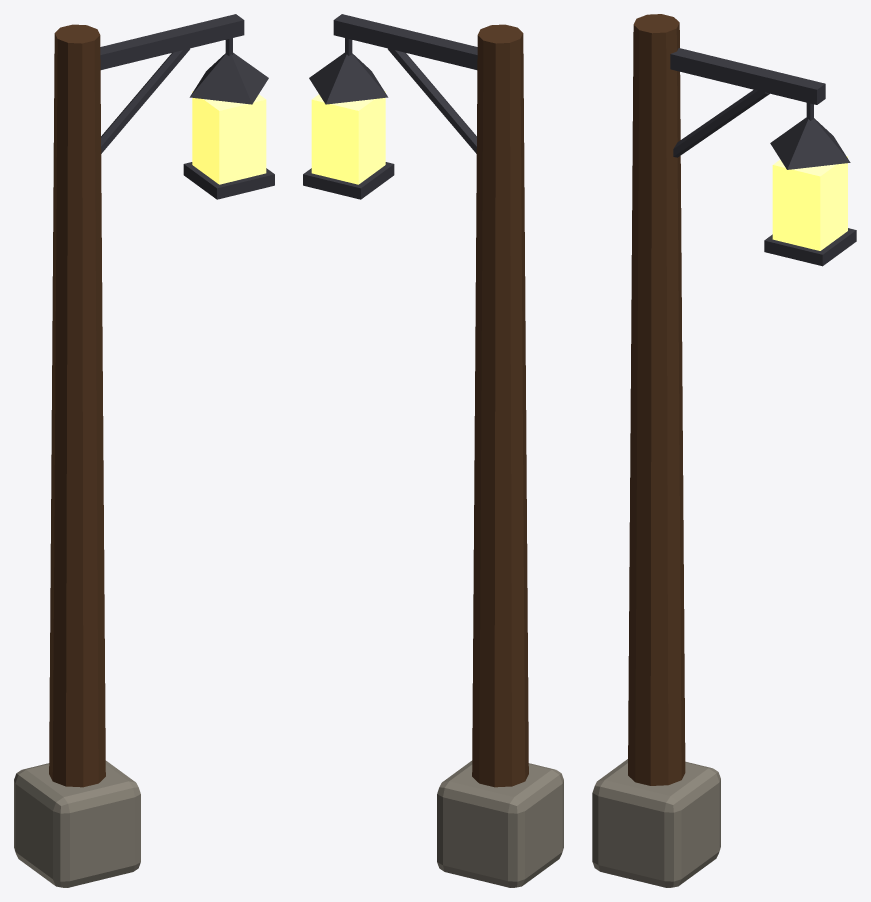
The model's file is prop_lamppost.glb.
3 views of the same model, side by side, from view 1: azimuth 30°, elevation 25°; view 2: azimuth 150°, elevation 25°; view 3: azimuth 330°, elevation 25° (orthographic).
Parts seen in each view (by area): view 1: post, base, glass, arm, cap, brace, frame; view 2: post, base, glass, arm, cap, brace, frame; view 3: post, base, glass, arm, cap, frame, brace.
Part boxes in pixels (x1,y1,x2,y2): post: (49,24,105,787); base: (14,760,140,887); glass: (192,91,266,184); arm: (100,14,244,69); cap: (189,52,268,104); brace: (101,48,189,153); frame: (183,162,274,199); post: (472,24,528,787); base: (437,760,563,887); glass: (311,91,385,184); arm: (333,14,477,69); cap: (309,52,388,104); brace: (388,48,476,153); frame: (303,162,394,199); post: (628,14,685,785); base: (592,759,720,887); glass: (772,156,847,250); arm: (670,48,825,104); cap: (770,117,850,169); frame: (764,228,856,266); brace: (673,90,769,157).
Size of the model in its own units: 0.65 by 2.2 by 0.24.
